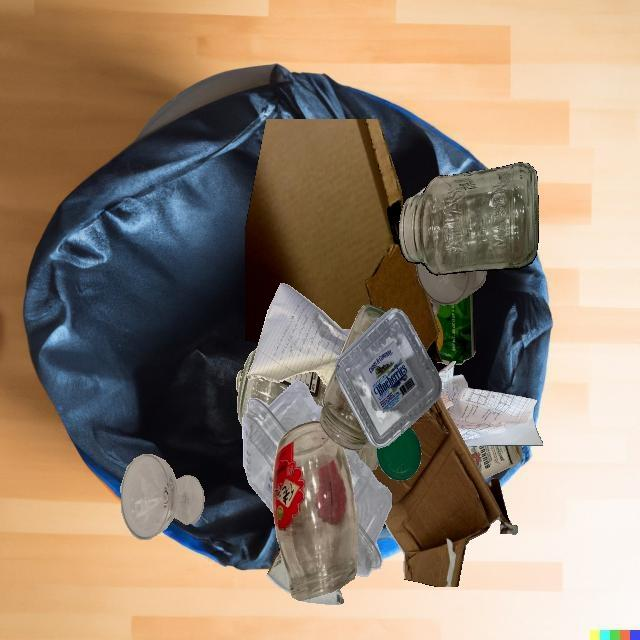cardboard: (245, 119, 442, 362), (371, 396, 518, 587), (435, 292, 476, 365), (266, 548, 291, 594), (302, 587, 344, 605)
glass: (398, 162, 539, 275), (272, 420, 358, 601), (121, 454, 204, 540), (237, 348, 327, 427), (319, 366, 371, 451), (415, 263, 486, 305), (340, 304, 387, 355), (466, 445, 522, 479), (236, 370, 243, 393)
paper: (247, 283, 351, 386), (438, 361, 543, 446), (428, 295, 440, 319), (413, 187, 426, 196)
plastic: (335, 308, 442, 448), (242, 379, 323, 514), (343, 447, 392, 576), (376, 427, 421, 481)
